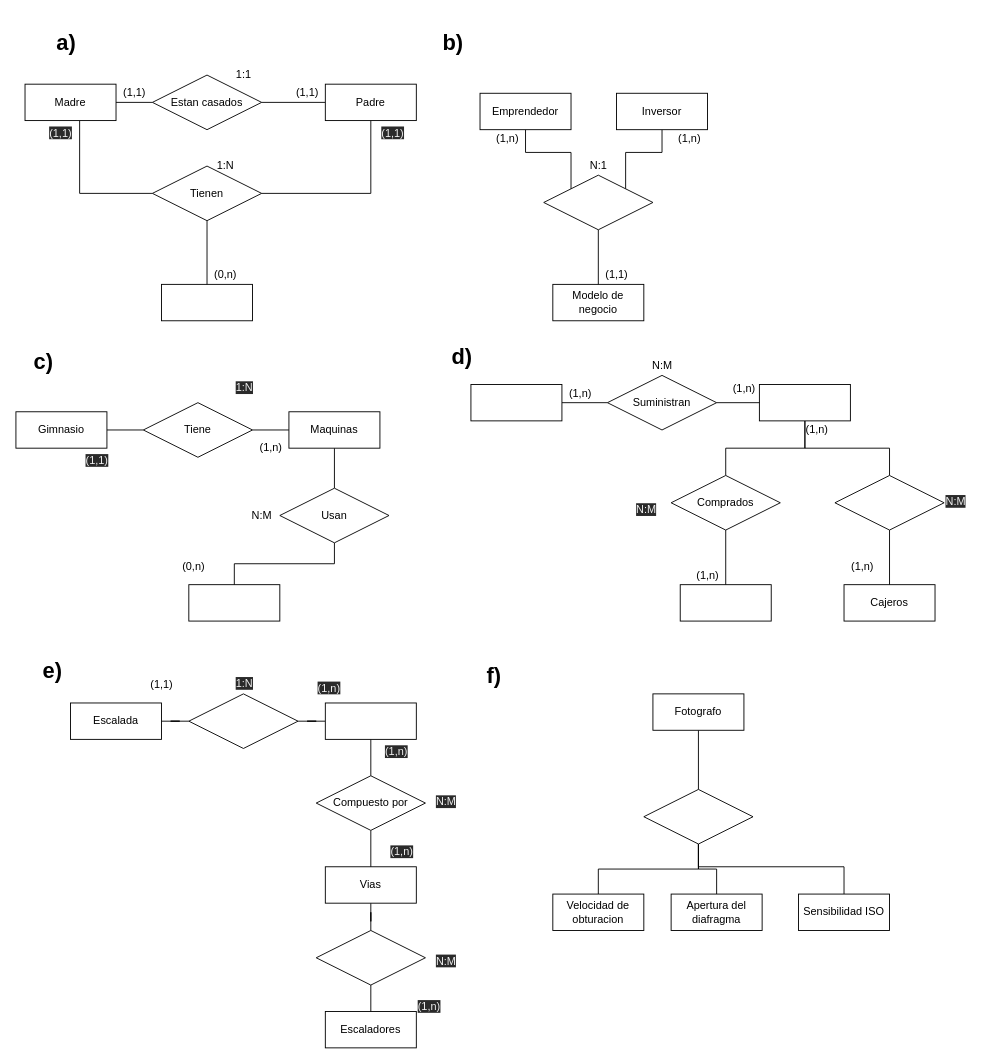
The diagram is 1006 pixels wide and 1064 high, and some of its shapes have lost their labels. Here are the shapes that lost their labels. From the top down, the centre of each, then its label:
At (x=598, y=202): "Analizan".
At (x=207, y=302): "Hijos".
At (x=516, y=402): "Proveedores".
At (x=804, y=402): "Productos".
At (x=889, y=502): "Vendidos".
At (x=234, y=602): "Socios".
At (x=725, y=602): "Clientes".
At (x=243, y=720): "Dividido en".
At (x=370, y=720): "Sectores".
At (x=698, y=816): "Ajusta".
At (x=370, y=957): "Escaladas".
